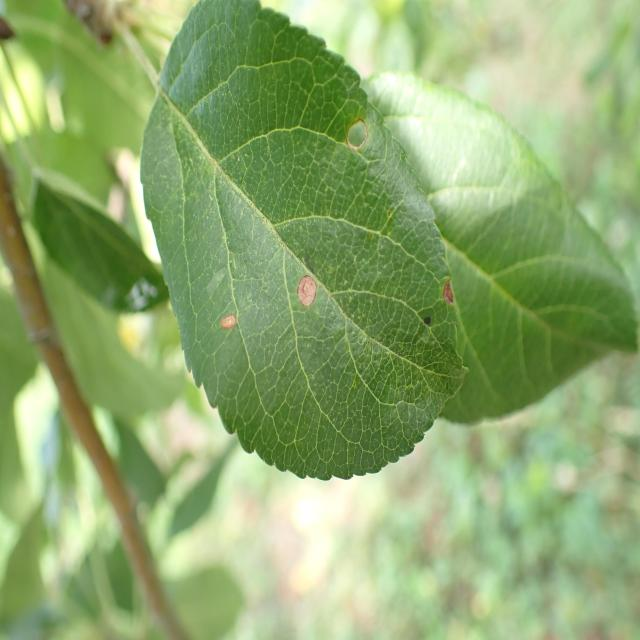Black Rot: (338, 110, 381, 162), (290, 274, 333, 322), (217, 295, 242, 355), (434, 271, 462, 322)
